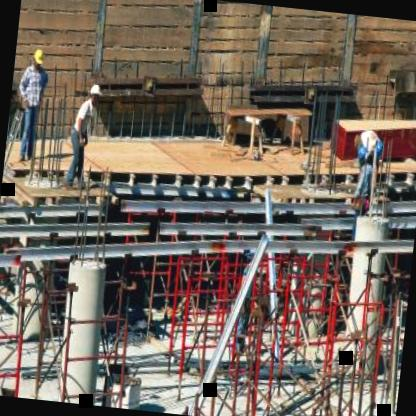helmet: (27, 46, 46, 72), (86, 84, 102, 107)
